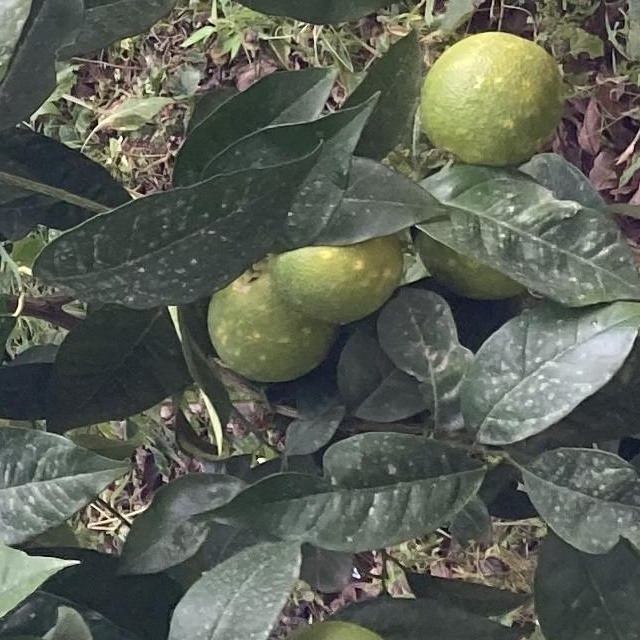orange: (406, 20, 580, 172), (205, 247, 345, 393), (272, 184, 412, 318), (412, 228, 530, 302), (249, 598, 419, 640), (634, 534, 640, 602)
